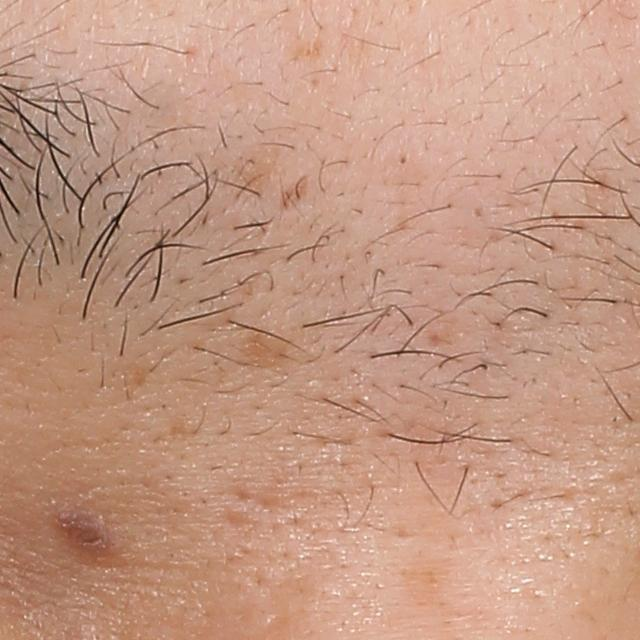comedo: (395, 148, 412, 170)
nevus: (47, 501, 113, 560)
